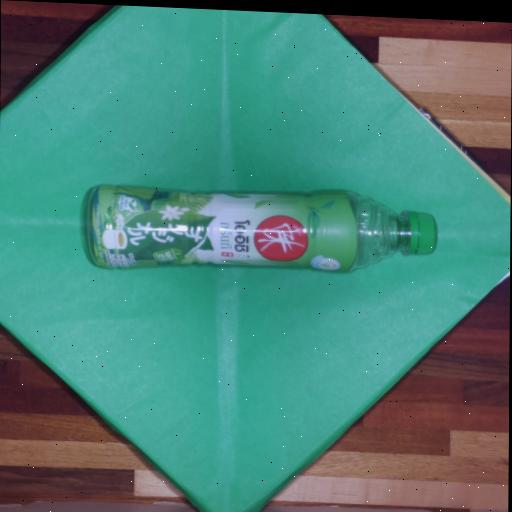bottle: (87, 186, 435, 272)
